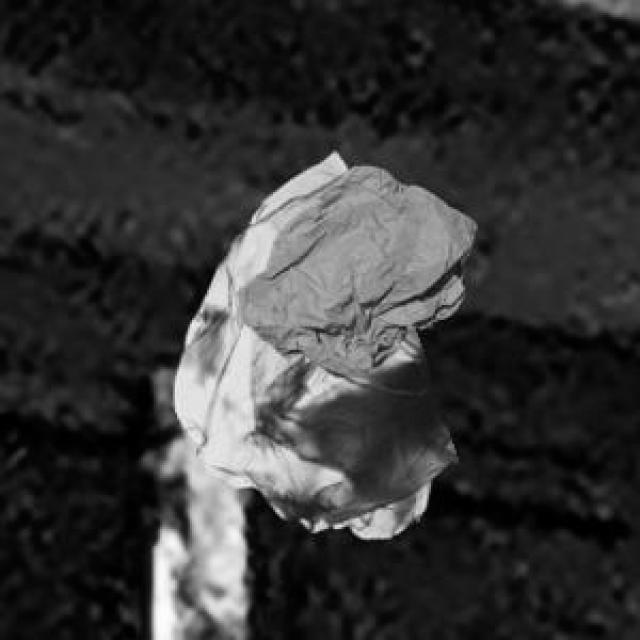paper: (233, 162, 472, 371)
